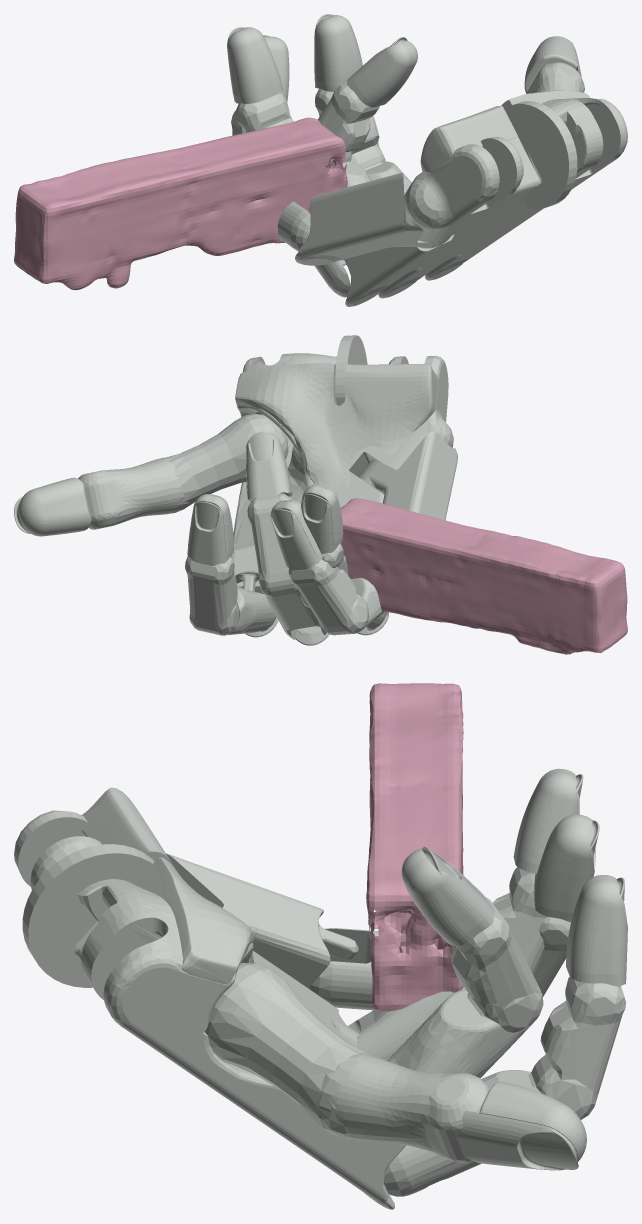
The picture shows the model from 3 angles, top to bottom: view 1: azimuth 30°, elevation 25°; view 2: azimuth 150°, elevation 25°; view 3: azimuth 270°, elevation 25°; orthographic projection. The views are drawn at different scales.
Parts seen in each view (by area): view 1: hand, world; view 2: hand, world; view 3: hand, world.
Boxes of the visible parts, x1,y1,x2,y2 form: hand: (227,14,627,306); world: (14,117,347,290); hand: (14,335,457,645); world: (340,498,627,654); hand: (14,768,627,1209); world: (366,683,463,1011).
Bounding box in the file's own units: 0.2495 × 0.0991 × 0.1541.
